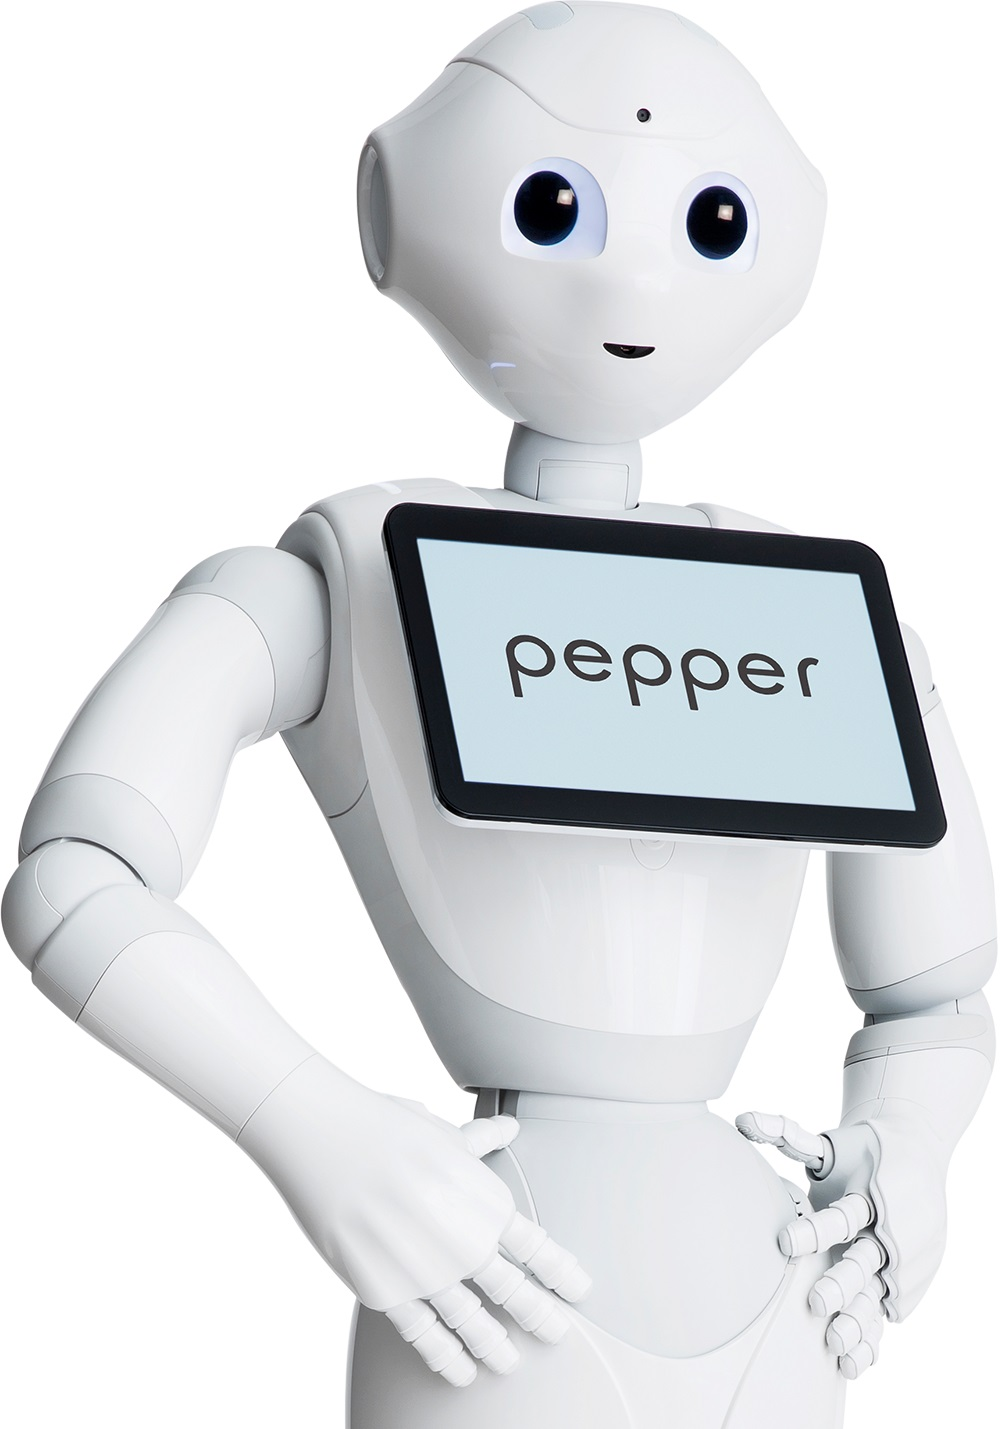person-like: (7, 7, 1000, 1420)
